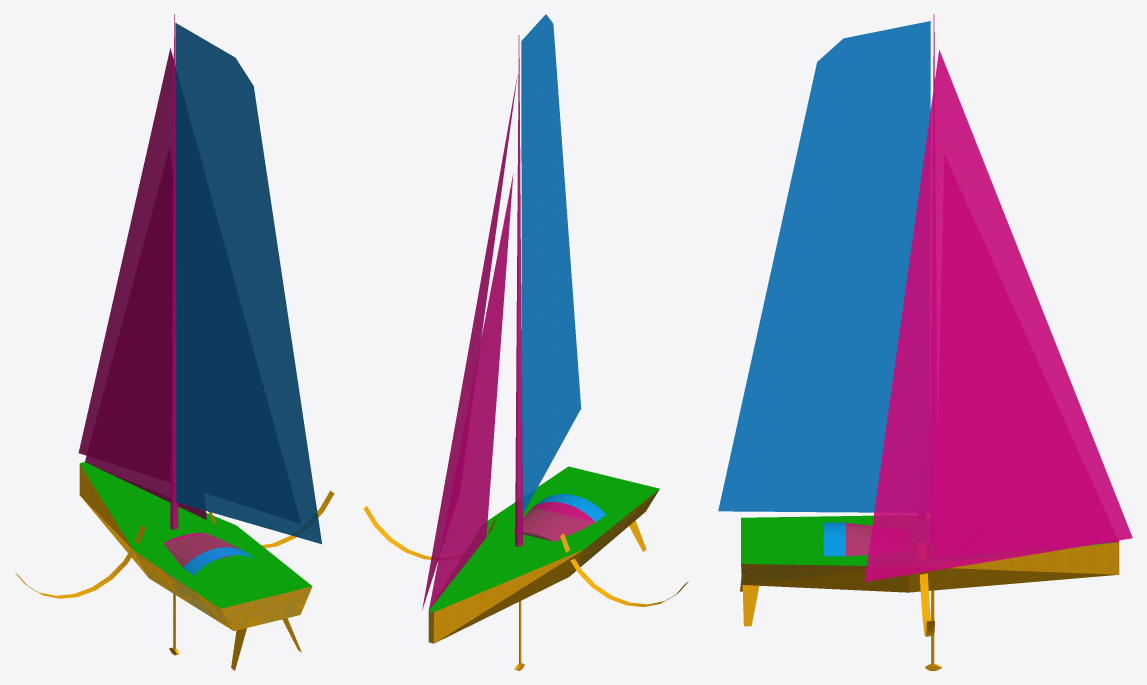
File: IMOCA_DANA_C-RKN_genois.dae
The picture shows the model from 3 angles, left to right: view 1: azimuth 30°, elevation 25°; view 2: azimuth 150°, elevation 25°; view 3: azimuth 270°, elevation 25°; orthographic projection. The views are drawn at different scales.
Visible parts, largest first — view 1: SketchUp (×10); view 2: SketchUp (×10); view 3: SketchUp (×7).
Part boxes in pixels (bbox=[...]): SketchUp (×10): bbox=[14, 14, 321, 630]; SketchUp (×10): bbox=[422, 14, 688, 643]; SketchUp (×7): bbox=[718, 21, 1132, 592].
Bounding box in the file's own units: 71165 × 77671 × 135626.
